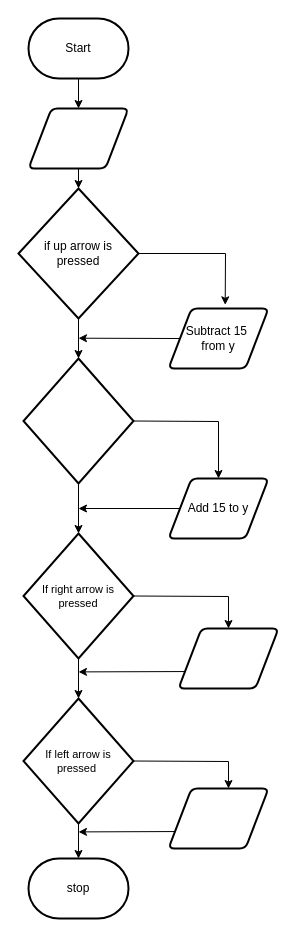
The diagram is 296 pixels wide and 936 high, and some of its shapes have lost their labels. Here are the shapes that lost their labels. From the top down, the centre of each, then its label:
At point 78,138: "Spawn in Dom".
At point 78,420: "If down arrow is pressed".
At point 228,658: "Add 15 to x".
At point 218,818: "subtract 15 from x".
